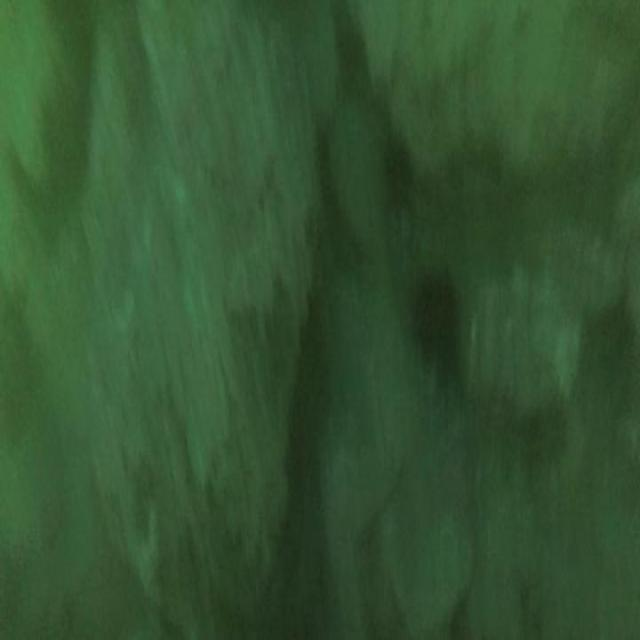echinus: (412, 273, 458, 378), (384, 136, 412, 207)
